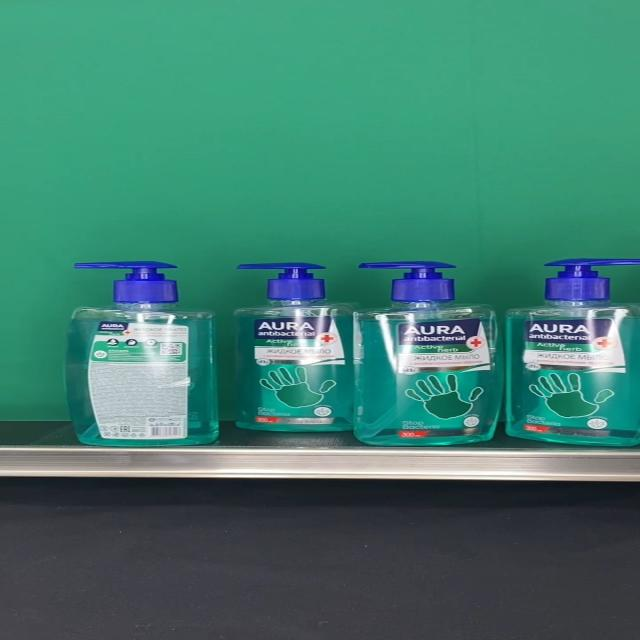Bottle: (65, 259, 216, 447), (353, 260, 504, 447), (506, 257, 640, 446), (233, 262, 353, 431)
Cap: (72, 259, 176, 301), (544, 257, 640, 300), (356, 260, 458, 300), (236, 262, 326, 298)
